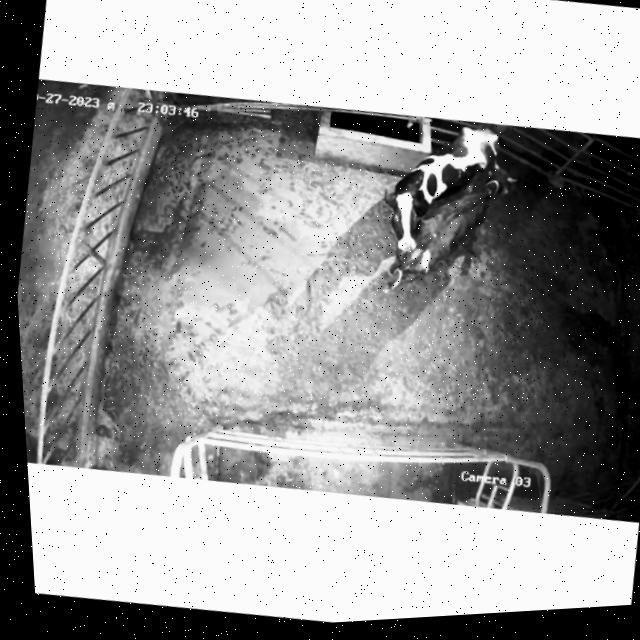propping: (354, 166, 473, 292)
